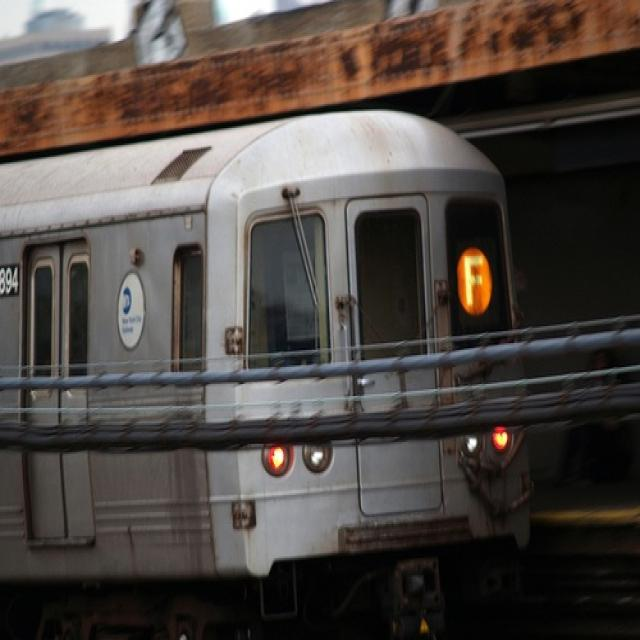train: (2, 100, 528, 636)
